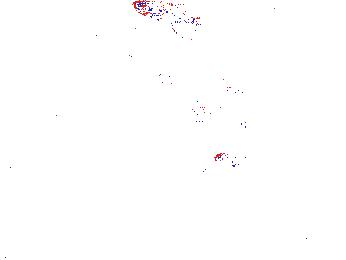X-ray fish: (90, 91, 160, 140), (321, 186, 344, 216)
red belly glassfish: (214, 150, 263, 167), (205, 82, 244, 98)
redtail glassfish: (139, 25, 211, 54), (132, 1, 202, 30), (187, 105, 256, 134), (151, 67, 214, 97), (114, 24, 138, 65)
